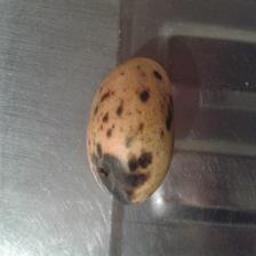Mango Rotten: (76, 33, 182, 219)
